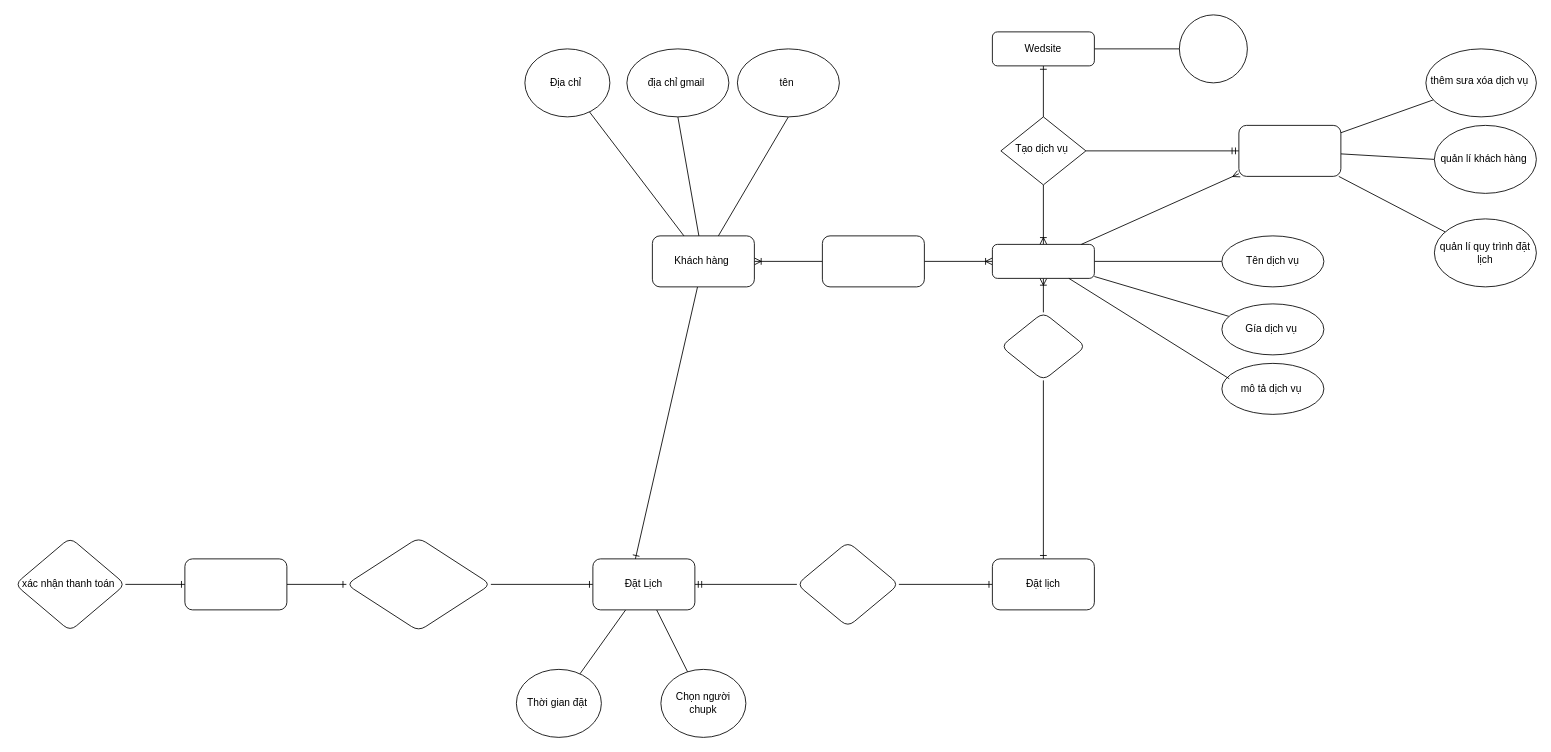
Image size: 1551x752. Some labels were removed from this diagram. The shapes that lost their labels are listed below. From the top down, each one's box as (x1, y1, x2, y2) in pixels, then its label:
(1179, 14, 1247, 83): Tên ws
(1238, 125, 1341, 176): Quản trị viên
(822, 235, 924, 287): Nhập
(992, 244, 1094, 278): Dịch vụ
(1000, 312, 1086, 380): Nằm trong
(184, 558, 287, 610): bằng thẻ
(346, 537, 491, 631): thanh toán
(796, 541, 899, 627): Người đặt
